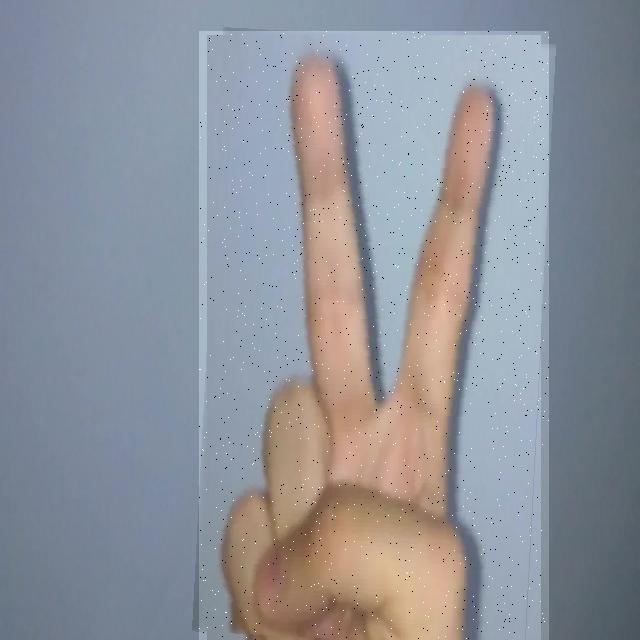V: (199, 31, 549, 640)
